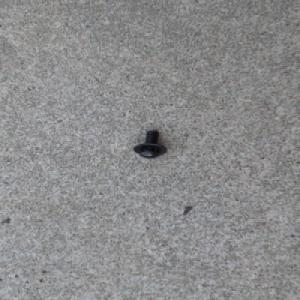BoltWasher: (132, 128, 167, 158)
